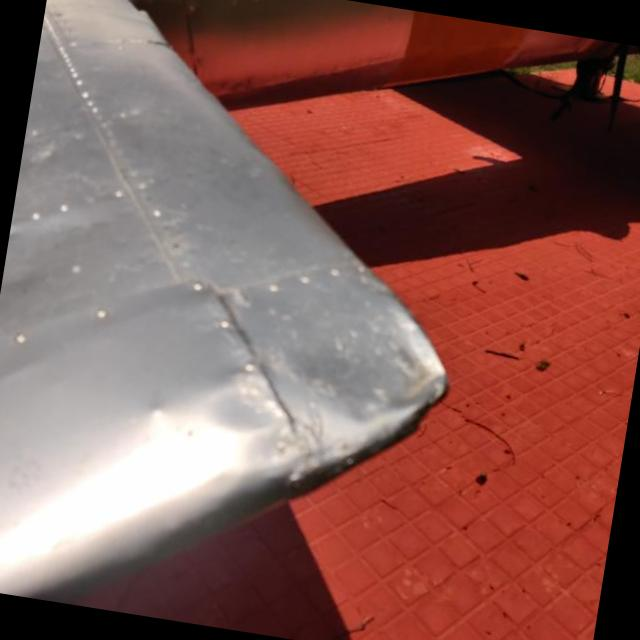Dent: (290, 266, 446, 448)
